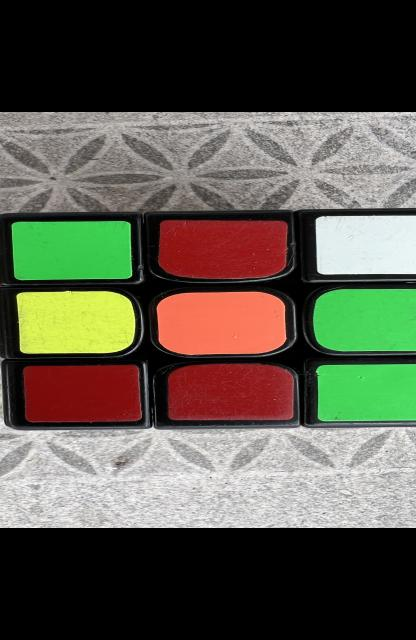Green: (10, 221, 131, 280), (311, 289, 416, 352), (315, 364, 416, 422)
Orange: (155, 292, 286, 355)
Red: (158, 220, 286, 279), (166, 364, 293, 420), (21, 365, 141, 422)
White: (315, 215, 416, 274)
Yellow: (15, 291, 135, 354)
